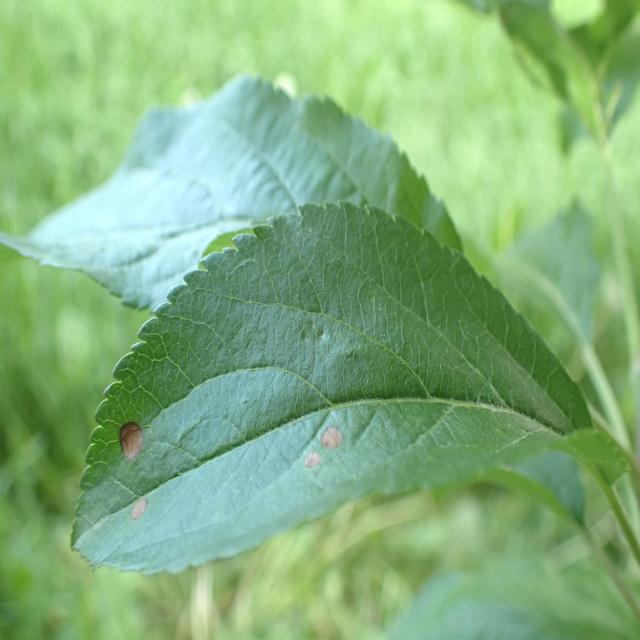Black Rot: (89, 390, 162, 476), (287, 417, 348, 496), (111, 480, 165, 539)
